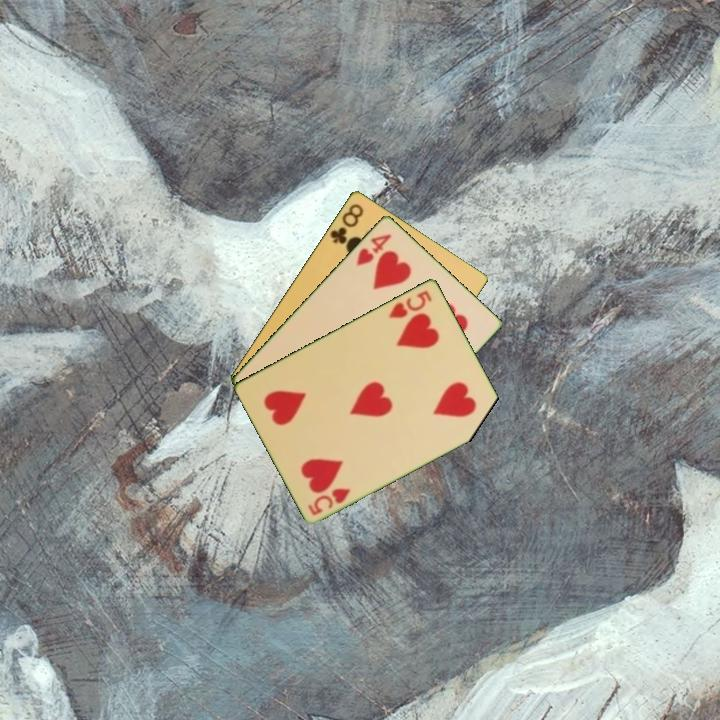4h: (352, 230, 395, 269)
5h: (385, 286, 435, 321), (305, 484, 354, 518)
8c: (326, 200, 366, 247)
